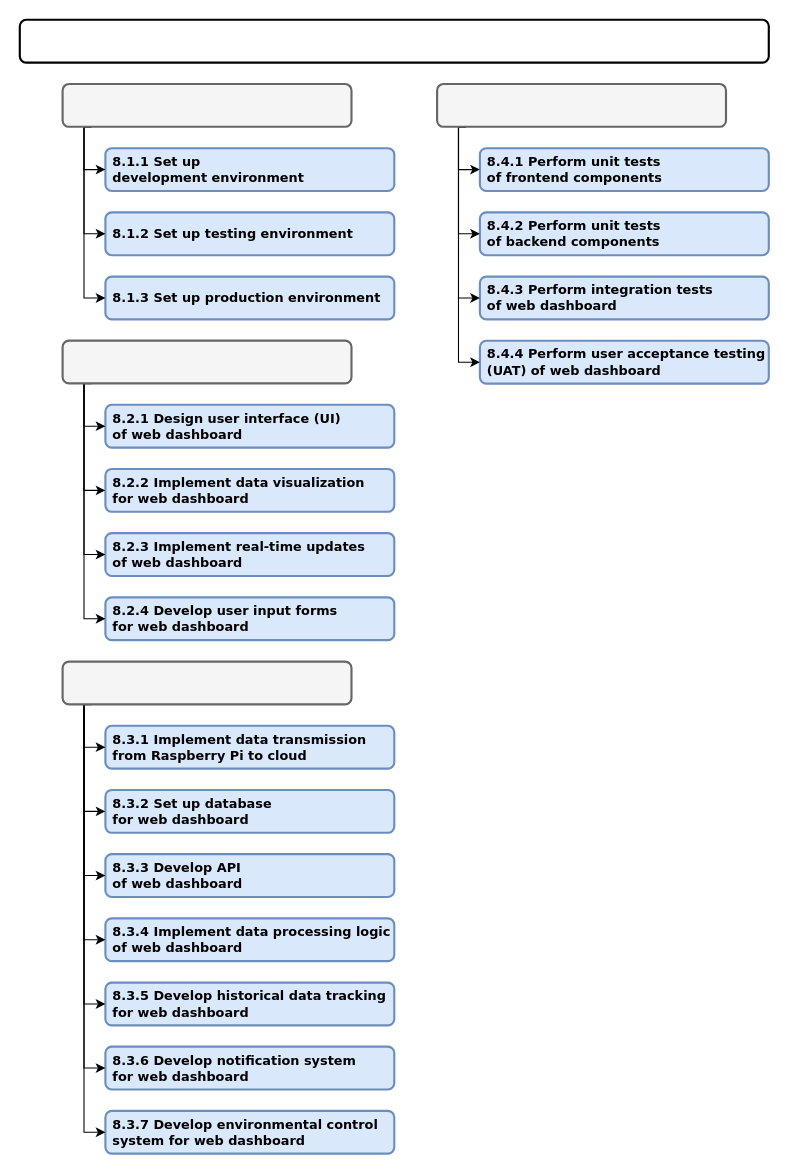
Image size: 788x1173. Some labels were removed from this diagram. Each missing label, with the box of its shape:
8. Web dashboard: (18, 18, 769, 63)
8.1 Deployment environment setup: (61, 82, 352, 127)
8.2 Frontend development: (61, 339, 352, 384)
8.3 Backend development: (61, 660, 352, 705)
8.4 Testing: (435, 82, 727, 127)
